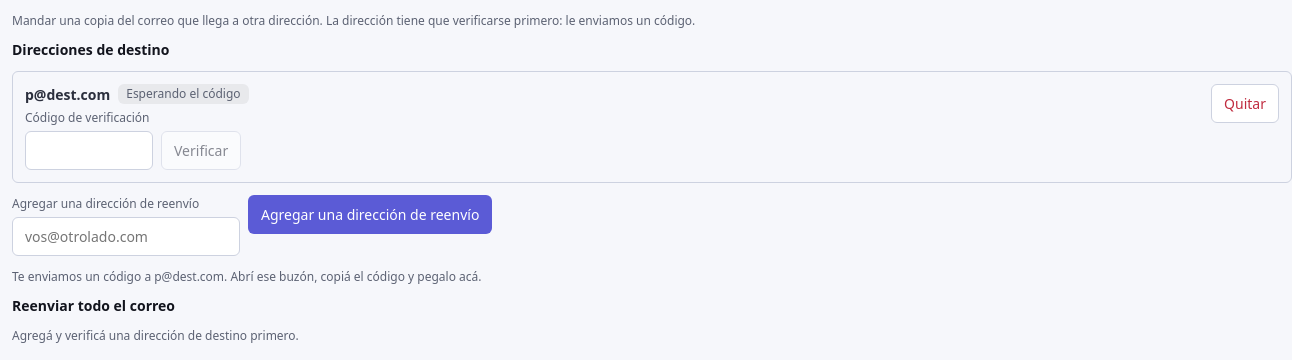
Test: verification consumes the code › reports the single refusal without pretending to know which reason it was
Step 1. Type "bad" into the field labelled "Código de verificación" → {"x": 89, "y": 150}, box [25,131,153,170]
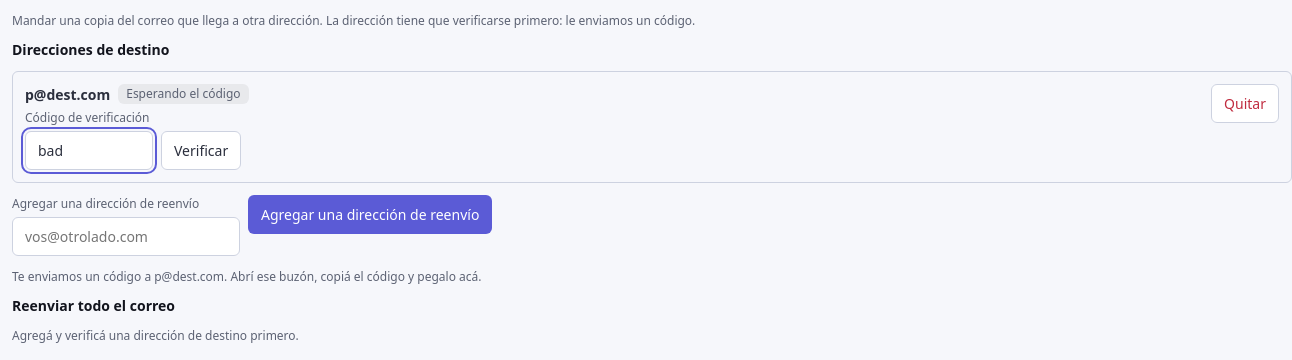
Step 2. Click the button "Verificar" → {"x": 201, "y": 150}, box [161,131,241,170]
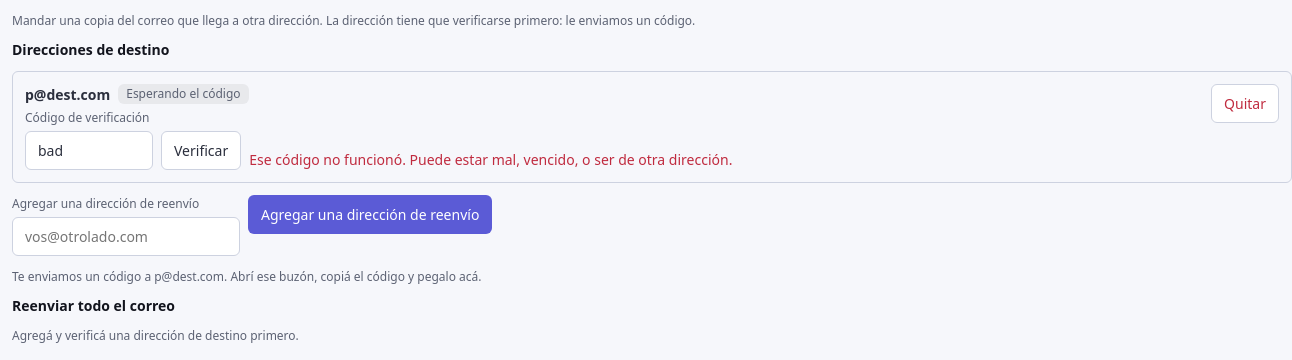
Now the text "Ese código no funcionó. Puede estar mal, vencido, o ser de otra dirección." is shown, box [249,149,732,170]
